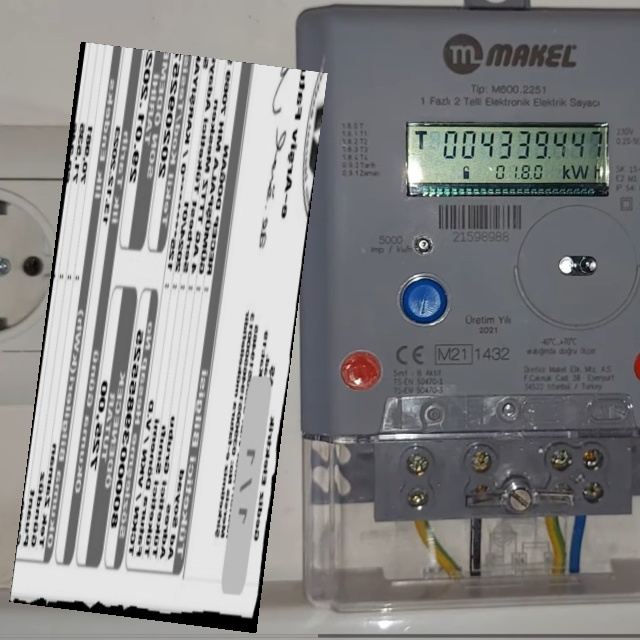electricity-bill: (9, 42, 327, 633)
